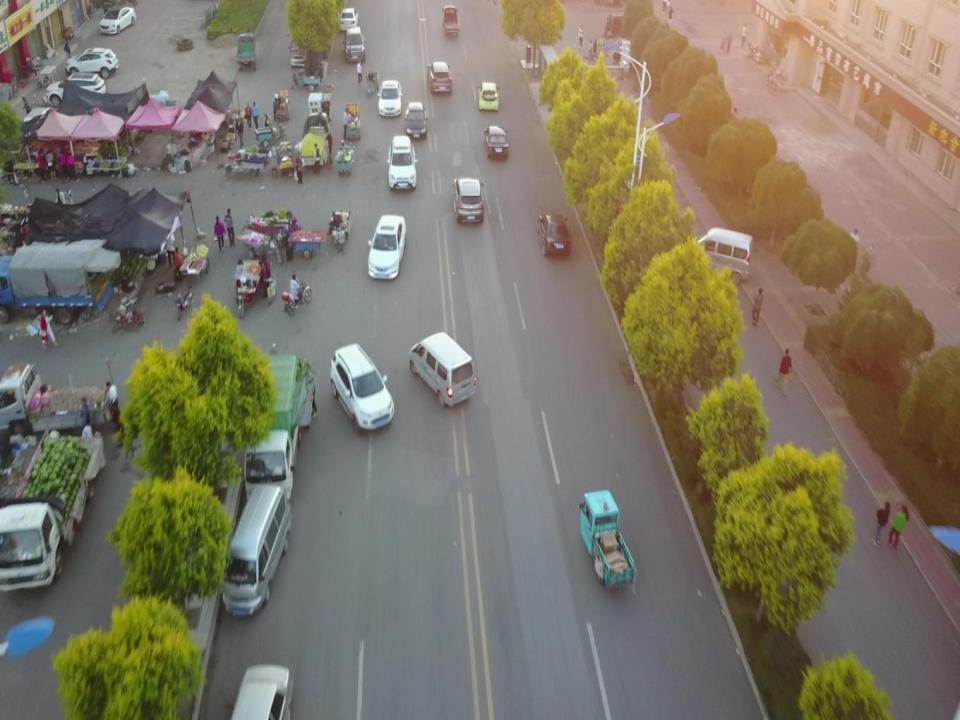car: (329, 343, 395, 430), (368, 214, 406, 280), (46, 74, 104, 106), (537, 210, 571, 259), (65, 47, 117, 78), (452, 178, 486, 224), (388, 138, 416, 190), (99, 5, 135, 34), (378, 81, 403, 118), (484, 125, 509, 160), (342, 26, 365, 63), (405, 102, 427, 139), (428, 62, 452, 94), (478, 82, 500, 111), (336, 140, 354, 173), (340, 6, 360, 33), (28, 92, 52, 113)
truck: (0, 430, 106, 589), (245, 352, 313, 500), (0, 237, 118, 316), (0, 362, 116, 433), (300, 113, 328, 167), (225, 148, 269, 174)
van: (221, 487, 288, 623), (407, 332, 476, 408), (690, 225, 754, 283), (289, 37, 308, 67)
